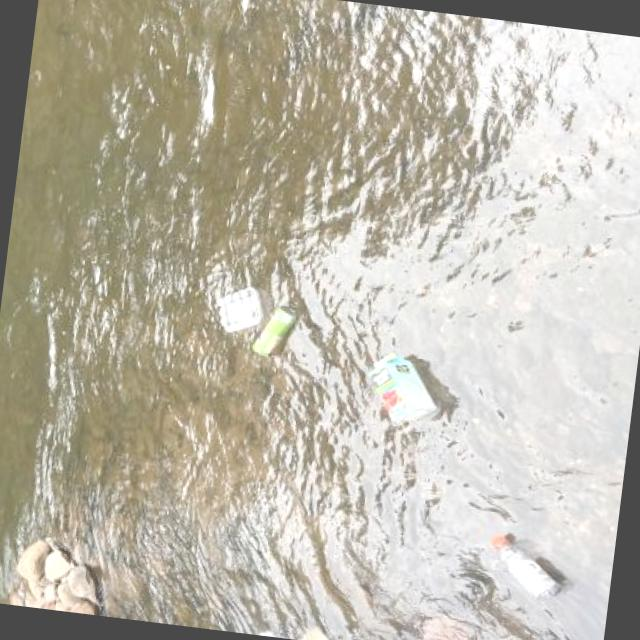Can-Metal: (249, 292, 305, 365)
Cardboard: (353, 347, 452, 433)
Plastic: (477, 528, 575, 606), (204, 279, 272, 341), (241, 624, 290, 638)
